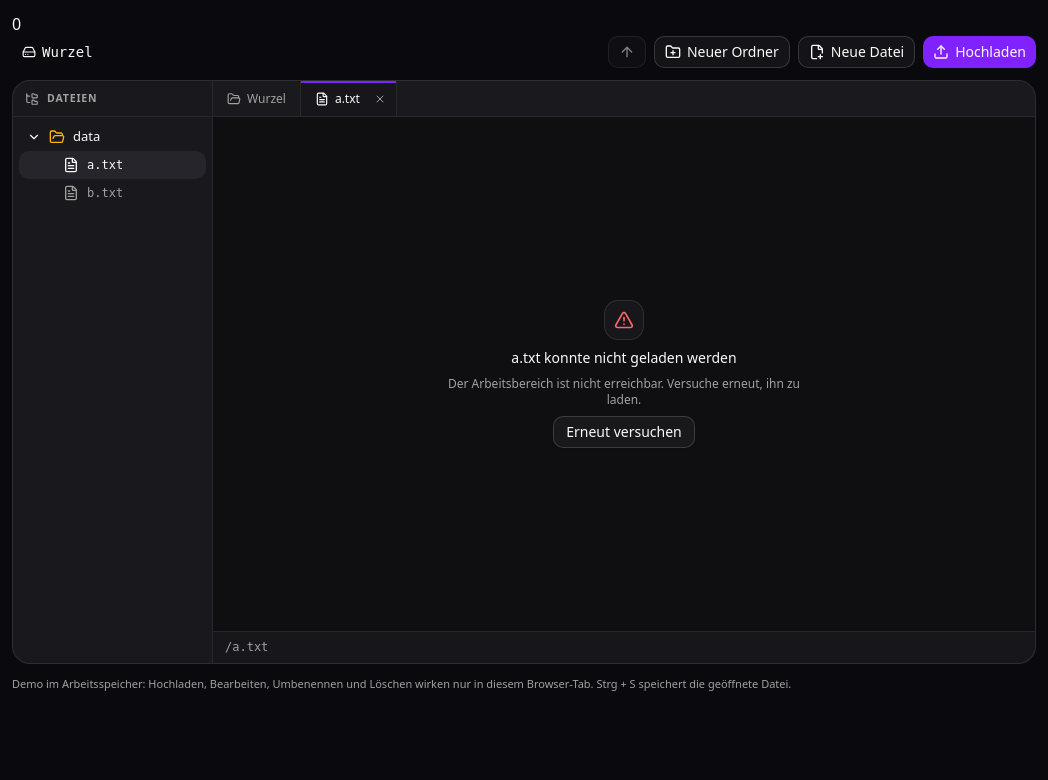
Test: workspace lifecycle: late responses, unsaved navigation, conflicts and retry › recovers after a transient file read failure
The image size is (1048, 780).
Click the button "Erneut versuchen": (624, 432) left=553, top=416, right=695, bottom=448
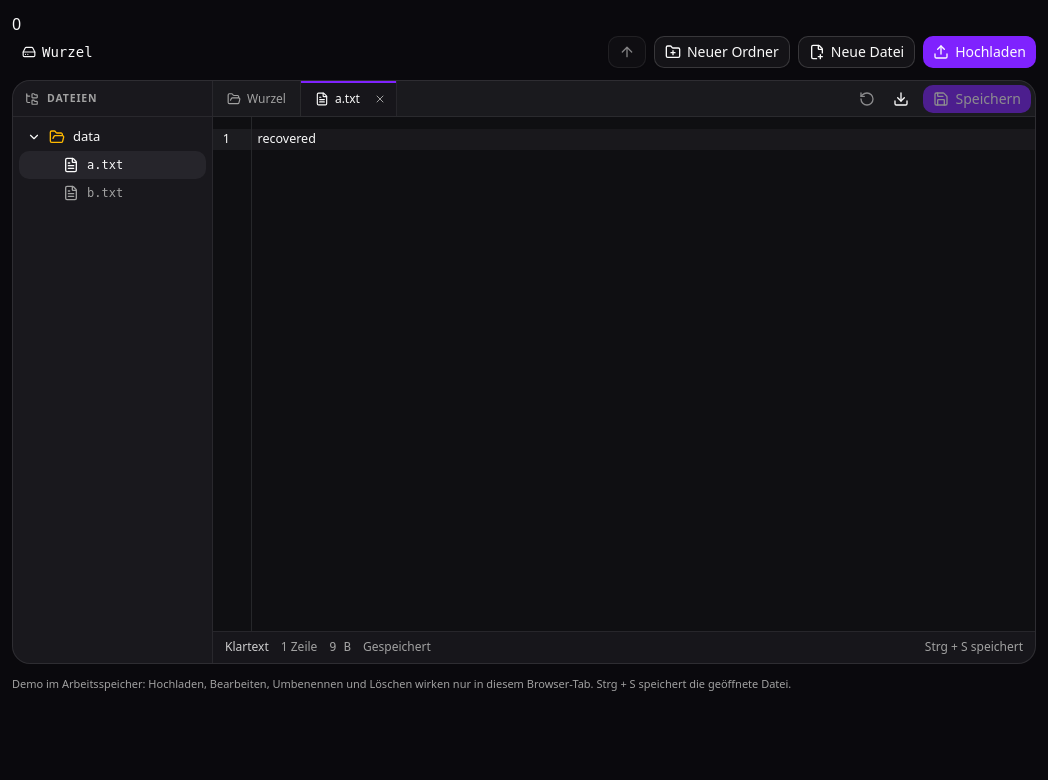
Now the field named "Inhalt von a.txt" reads "recovered", box left=252, top=129, right=1035, bottom=150
